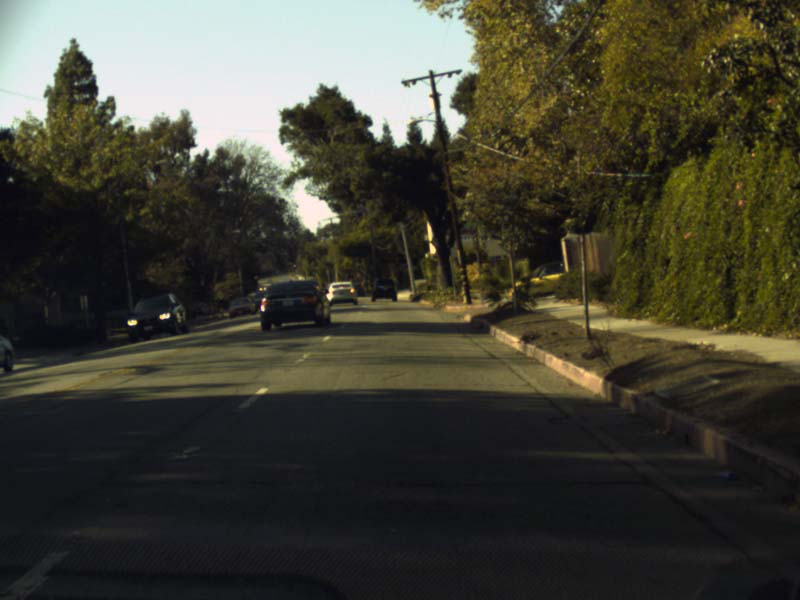Red: (293, 263, 296, 267)
